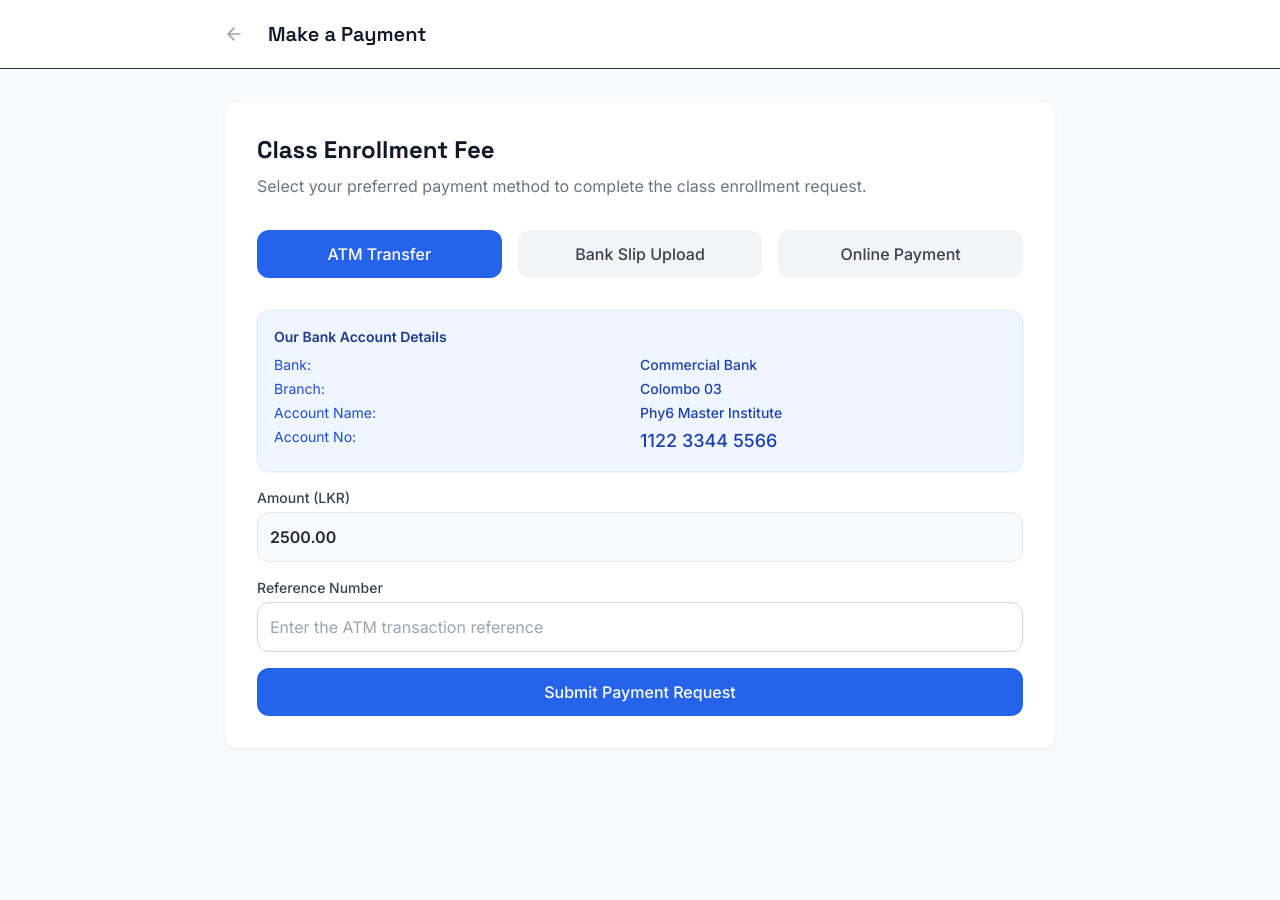
Test: PaymentPage Component › should validate form fields for Bank Slip Upload
This screenshot has width=1280, height=900.
Note: Select Bank Slip
Click the button "Bank Slip Upload".
click(640, 254)  # box [518,230,762,278]
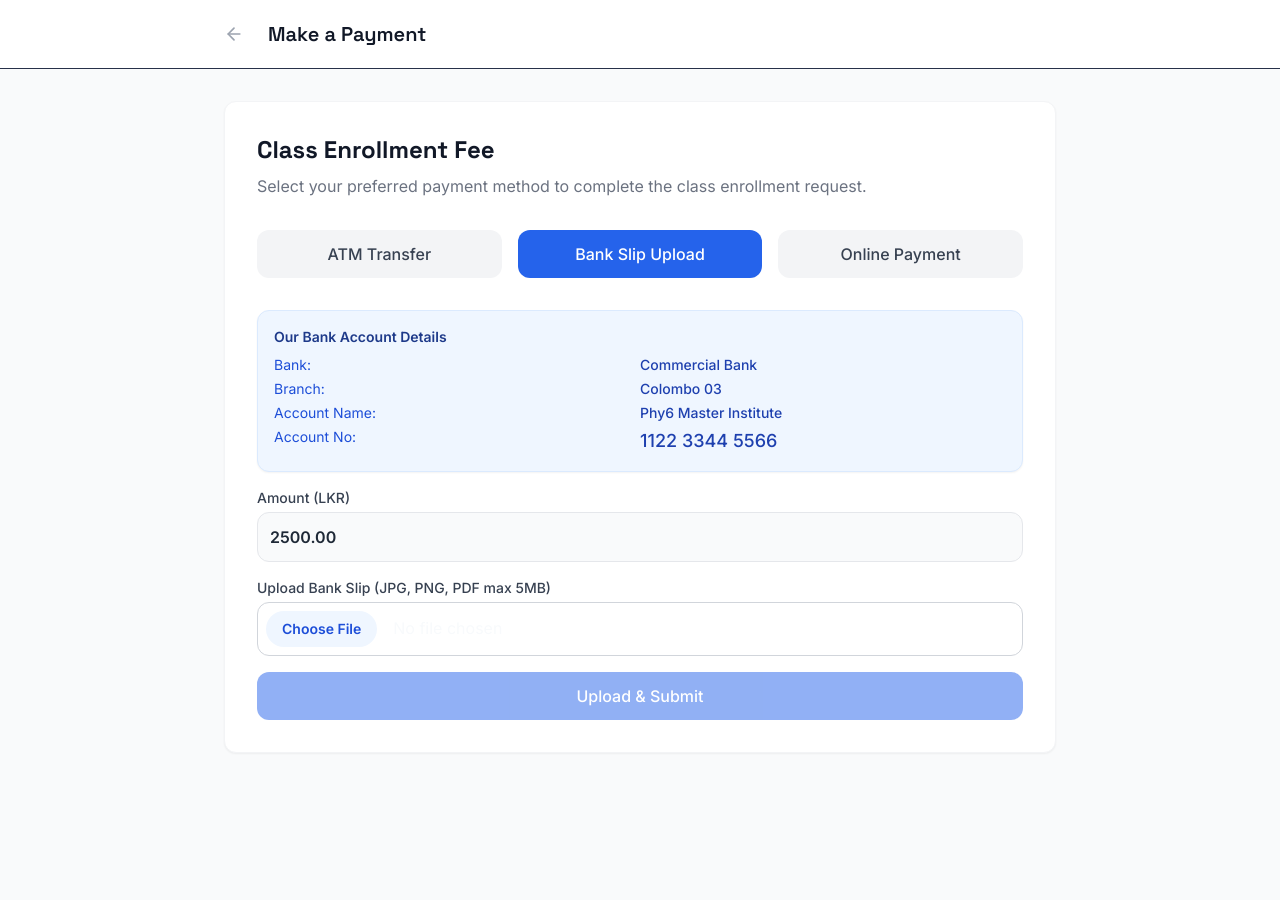
Check: the text "Upload Bank Slip (JPG, PNG, PDF max 5MB)" is shown, box [257,579,551,596]
Check: the button "Upload & Submit" is disabled, box [257,672,1023,720]
